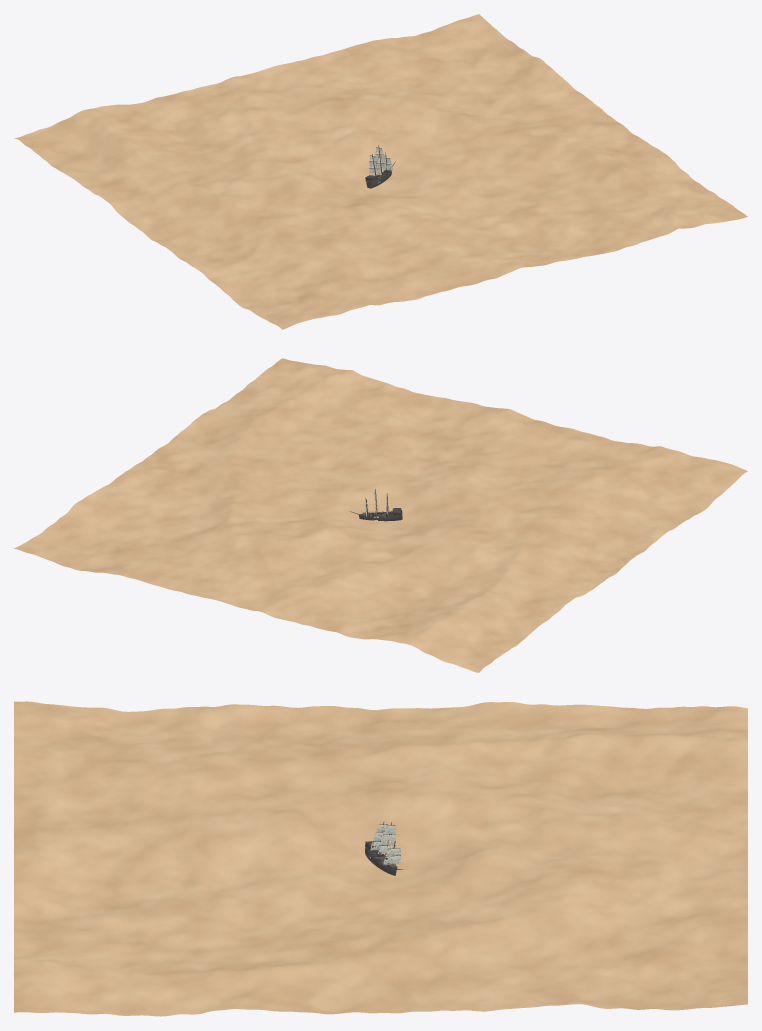
The model's file is ghost_ship_desert.glb.
3 renders of one model, top to bottom at view 1: azimuth 30°, elevation 25°; view 2: azimuth 150°, elevation 25°; view 3: azimuth 270°, elevation 25°, orthographic. The views are drawn at different scales.
Parts seen in each view (by area): view 1: DesertTerrain; view 2: DesertTerrain; view 3: DesertTerrain, Ship_Sails, Ship_Body.
Part boxes in pixels (<box>): DesertTerrain: <box>14,14,747,329</box>; DesertTerrain: <box>14,358,747,672</box>; DesertTerrain: <box>14,701,747,1016</box>; Ship_Sails: <box>370,824,401,864</box>; Ship_Body: <box>365,822,403,875</box>.
Size of the model in its own units: 400 by 29.01 by 400.
3 materials, 3 textured.
